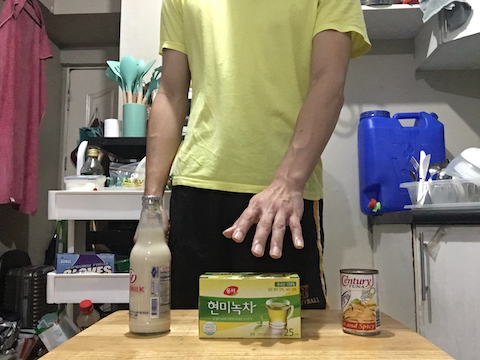bottle: (122, 190, 182, 338)
box: (194, 271, 307, 344)
can: (339, 263, 384, 338)
